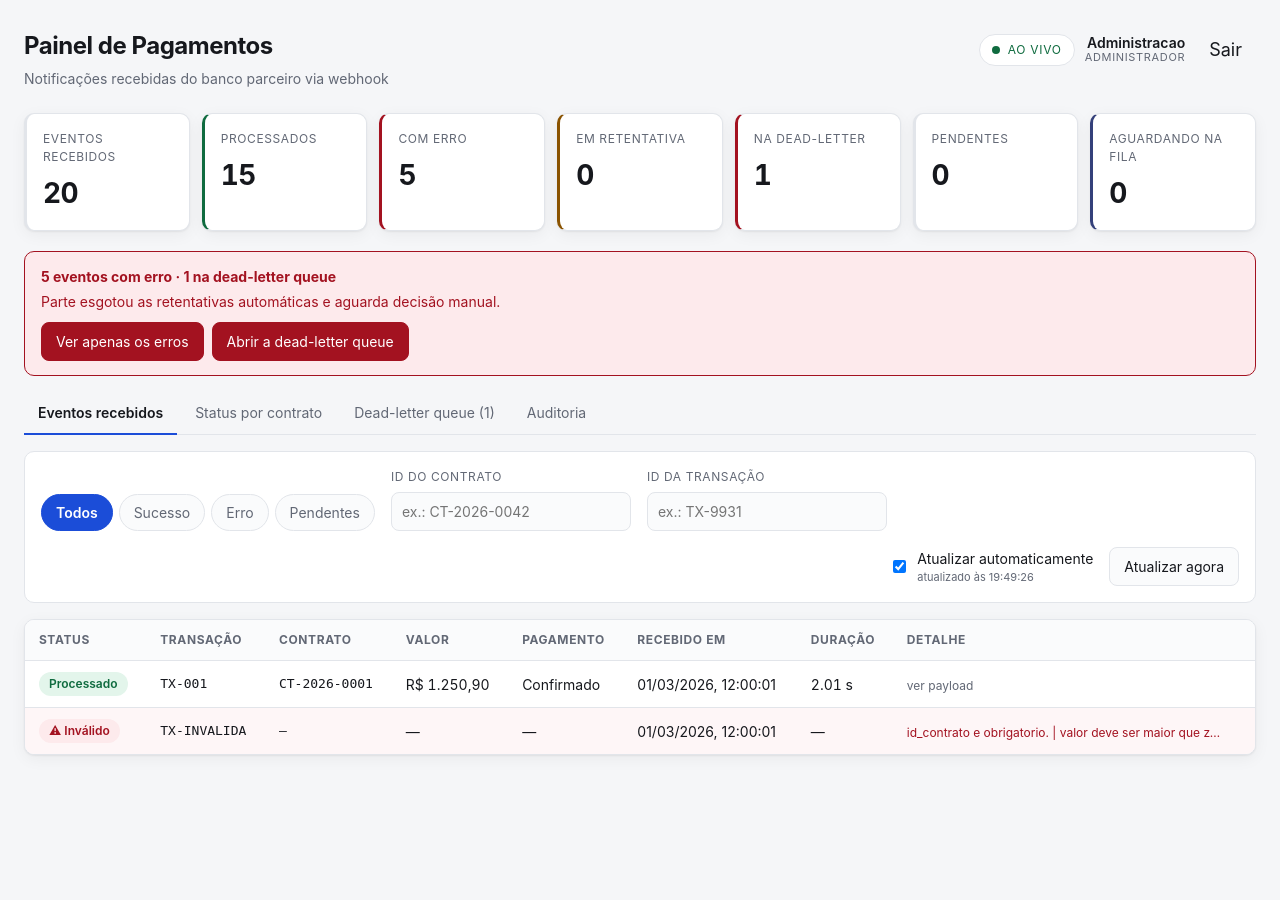
Test: App › mostra a falha do reprocessamento sem derrubar a tela
Expected: the heading "Painel de Pagamentos" is shown, [24,31,273,60]
What coordinates should you click on to do the following:
click the button "Dead-letter queue (1)"
I would click on:
 (424, 414)
Its box is [340,392,509,435].
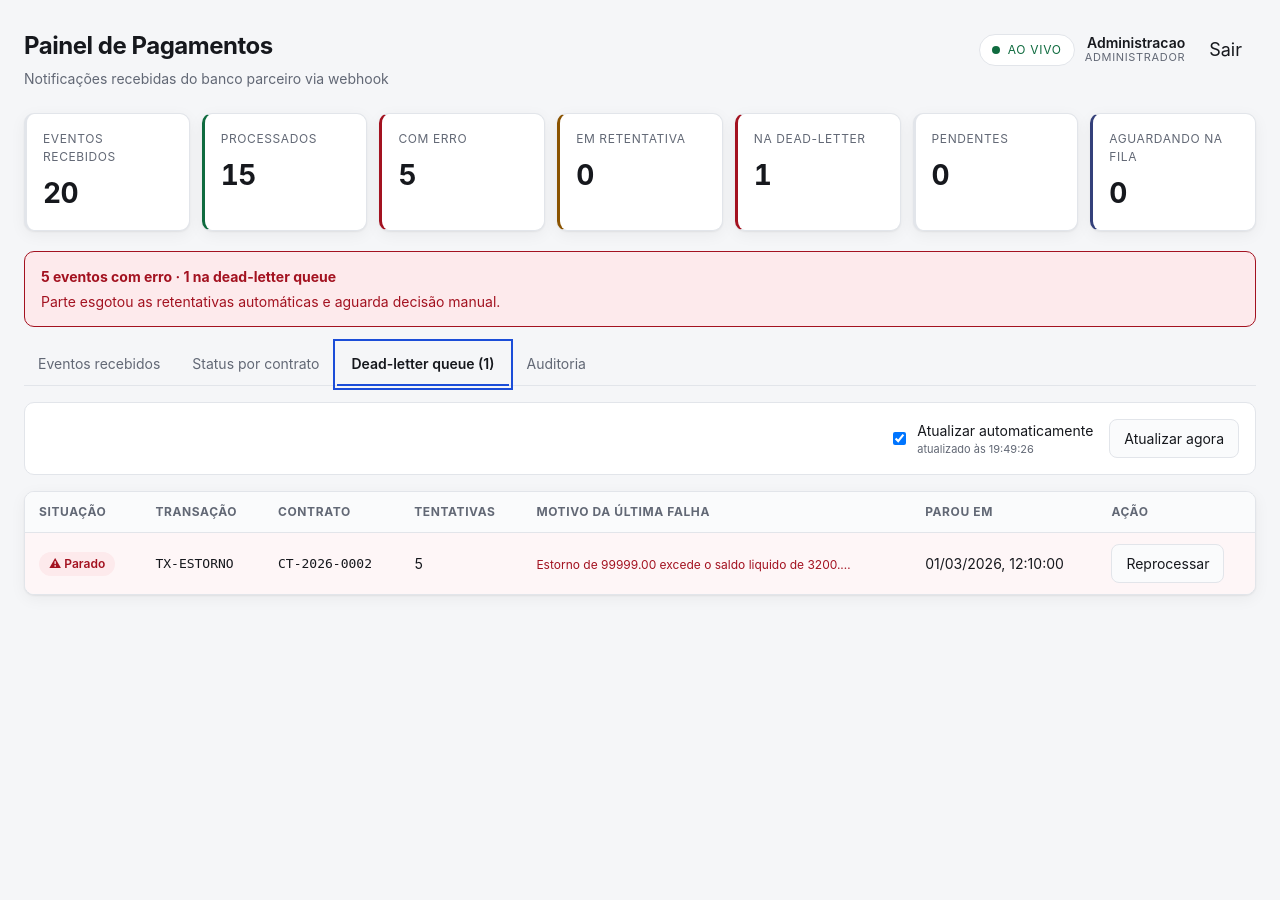
What coordinates should you click on to do the following:
click the button "Reprocessar"
I would click on:
 (1168, 564)
Its box is [1111,544,1224,583].
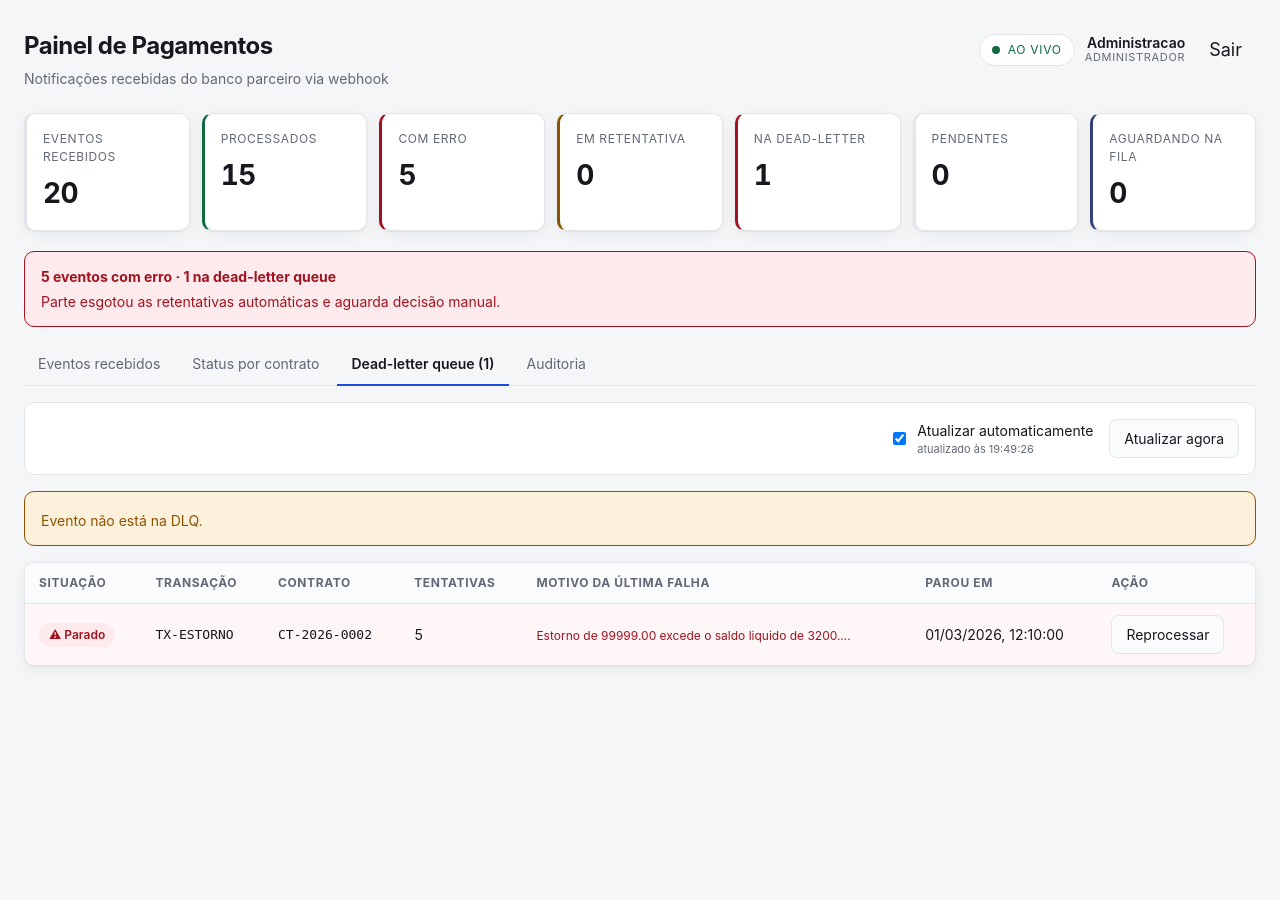
Expected: the text "Evento não está na DLQ." is shown, [41,512,202,529]
